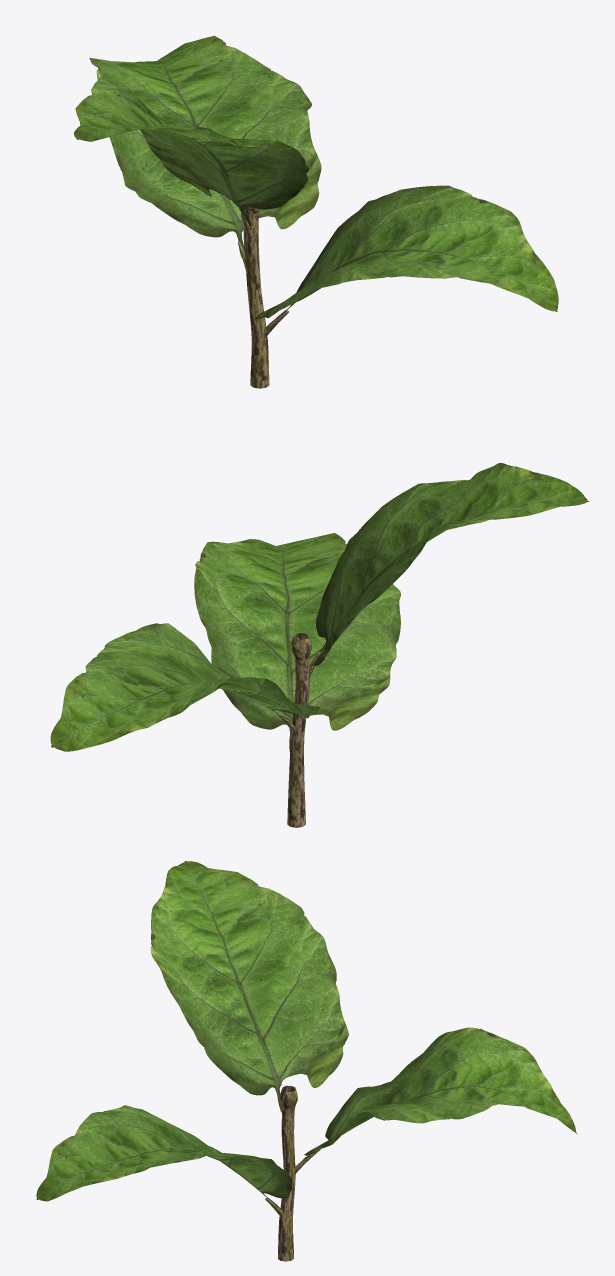
3 views of the same model, one above another, from view 1: azimuth 30°, elevation 25°; view 2: azimuth 150°, elevation 25°; view 3: azimuth 270°, elevation 25° (orthographic). The views are drawn at different scales.
Visible parts, largest first — view 1: VG19_1; view 2: VG19_1; view 3: VG19_1.
Part boxes in pixels (<box>): VG19_1: <box>74,35,558,388</box>; VG19_1: <box>50,463,588,827</box>; VG19_1: <box>36,861,577,1261</box>.
Bounding box in the file's own units: 0.1018 × 0.0777 × 0.1273.
Materials: 2 (2 with a texture image).
